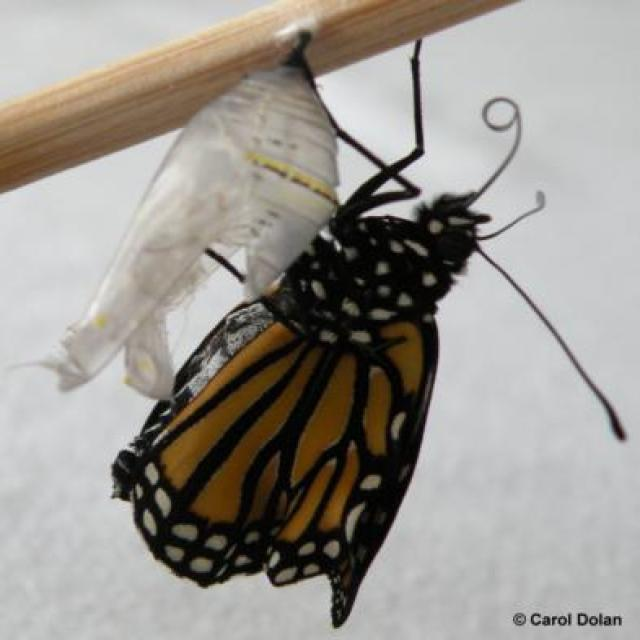antennae: (468, 190, 631, 454)
body: (257, 197, 481, 339)
insect: (105, 33, 628, 628)
legs: (281, 41, 433, 223)
mouthpart: (452, 84, 523, 215)
wings: (112, 299, 442, 626)
